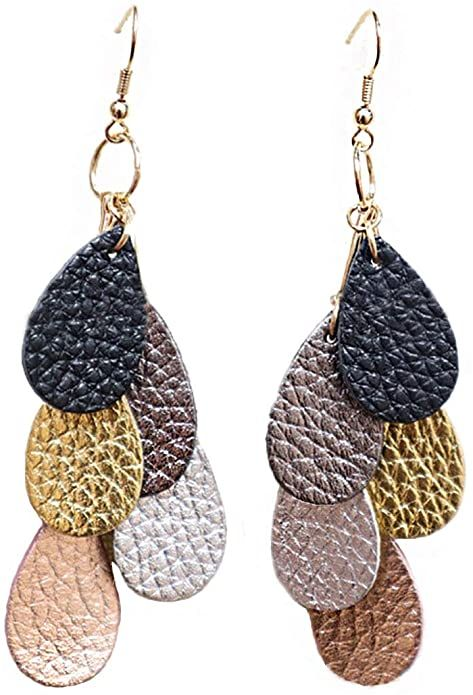cuero: (4, 220, 463, 686)
